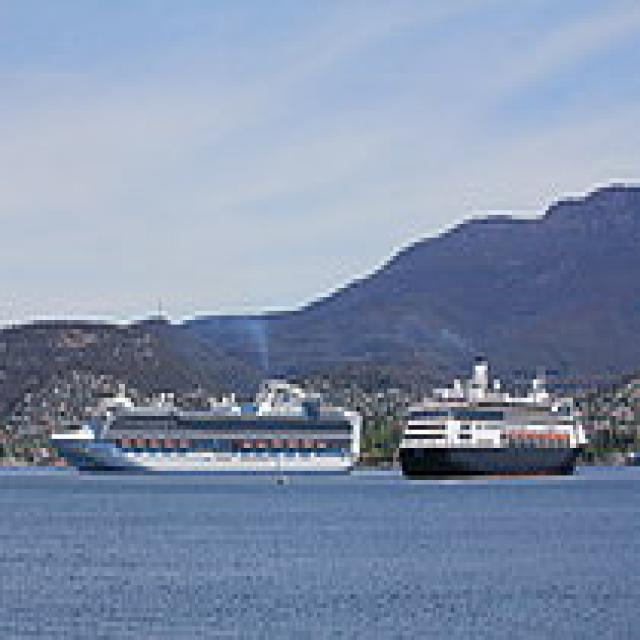Ship: (62, 344, 370, 495), (394, 344, 598, 509)
